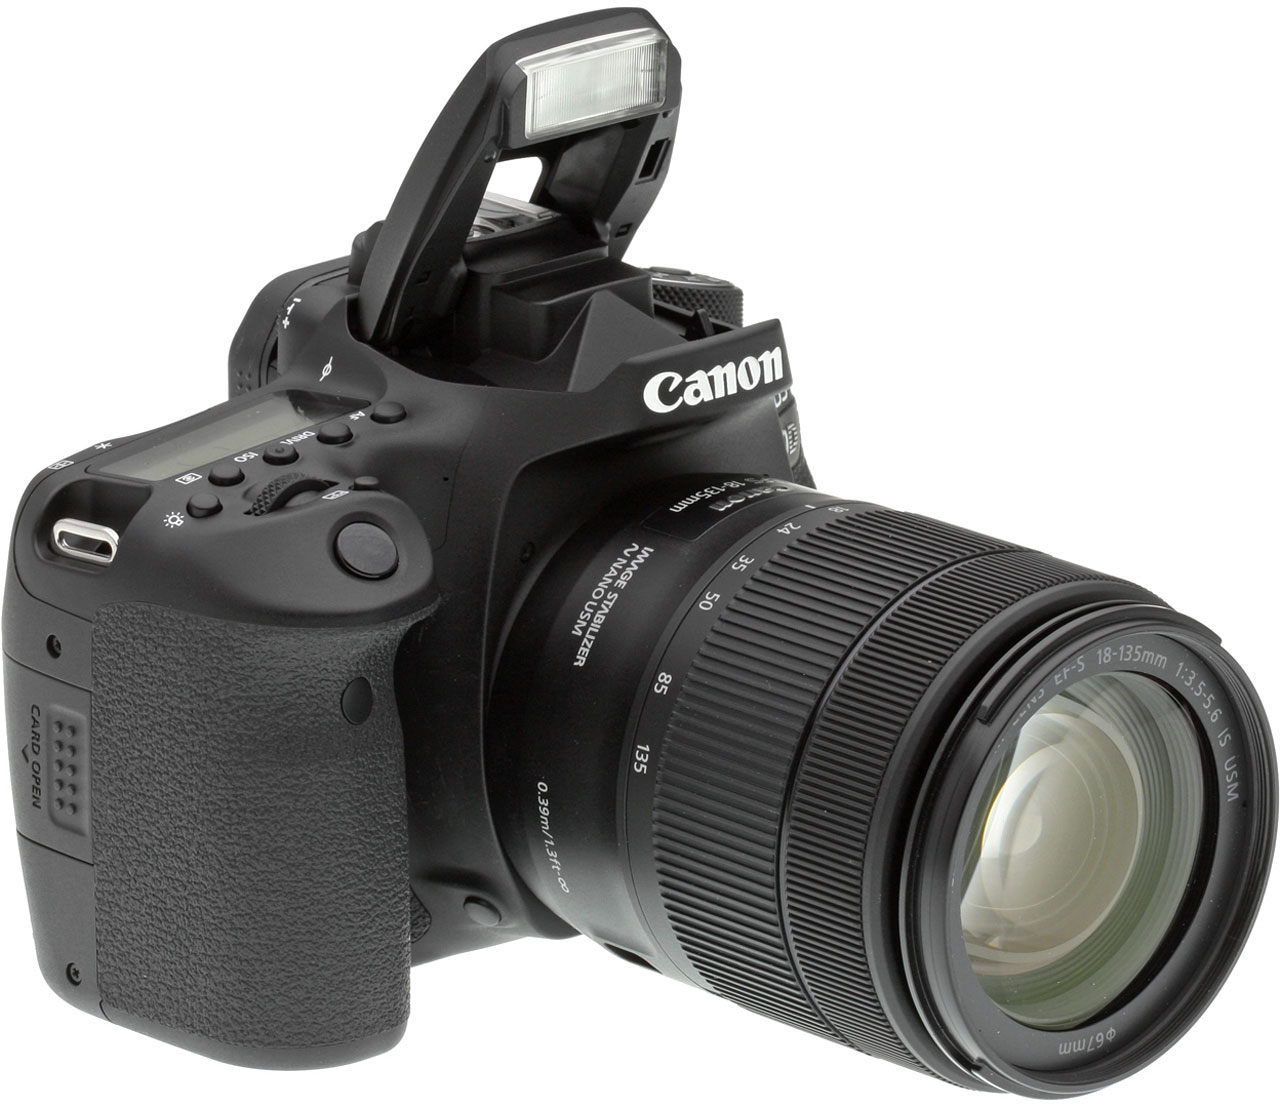camera: (22, 77, 1263, 1067)
